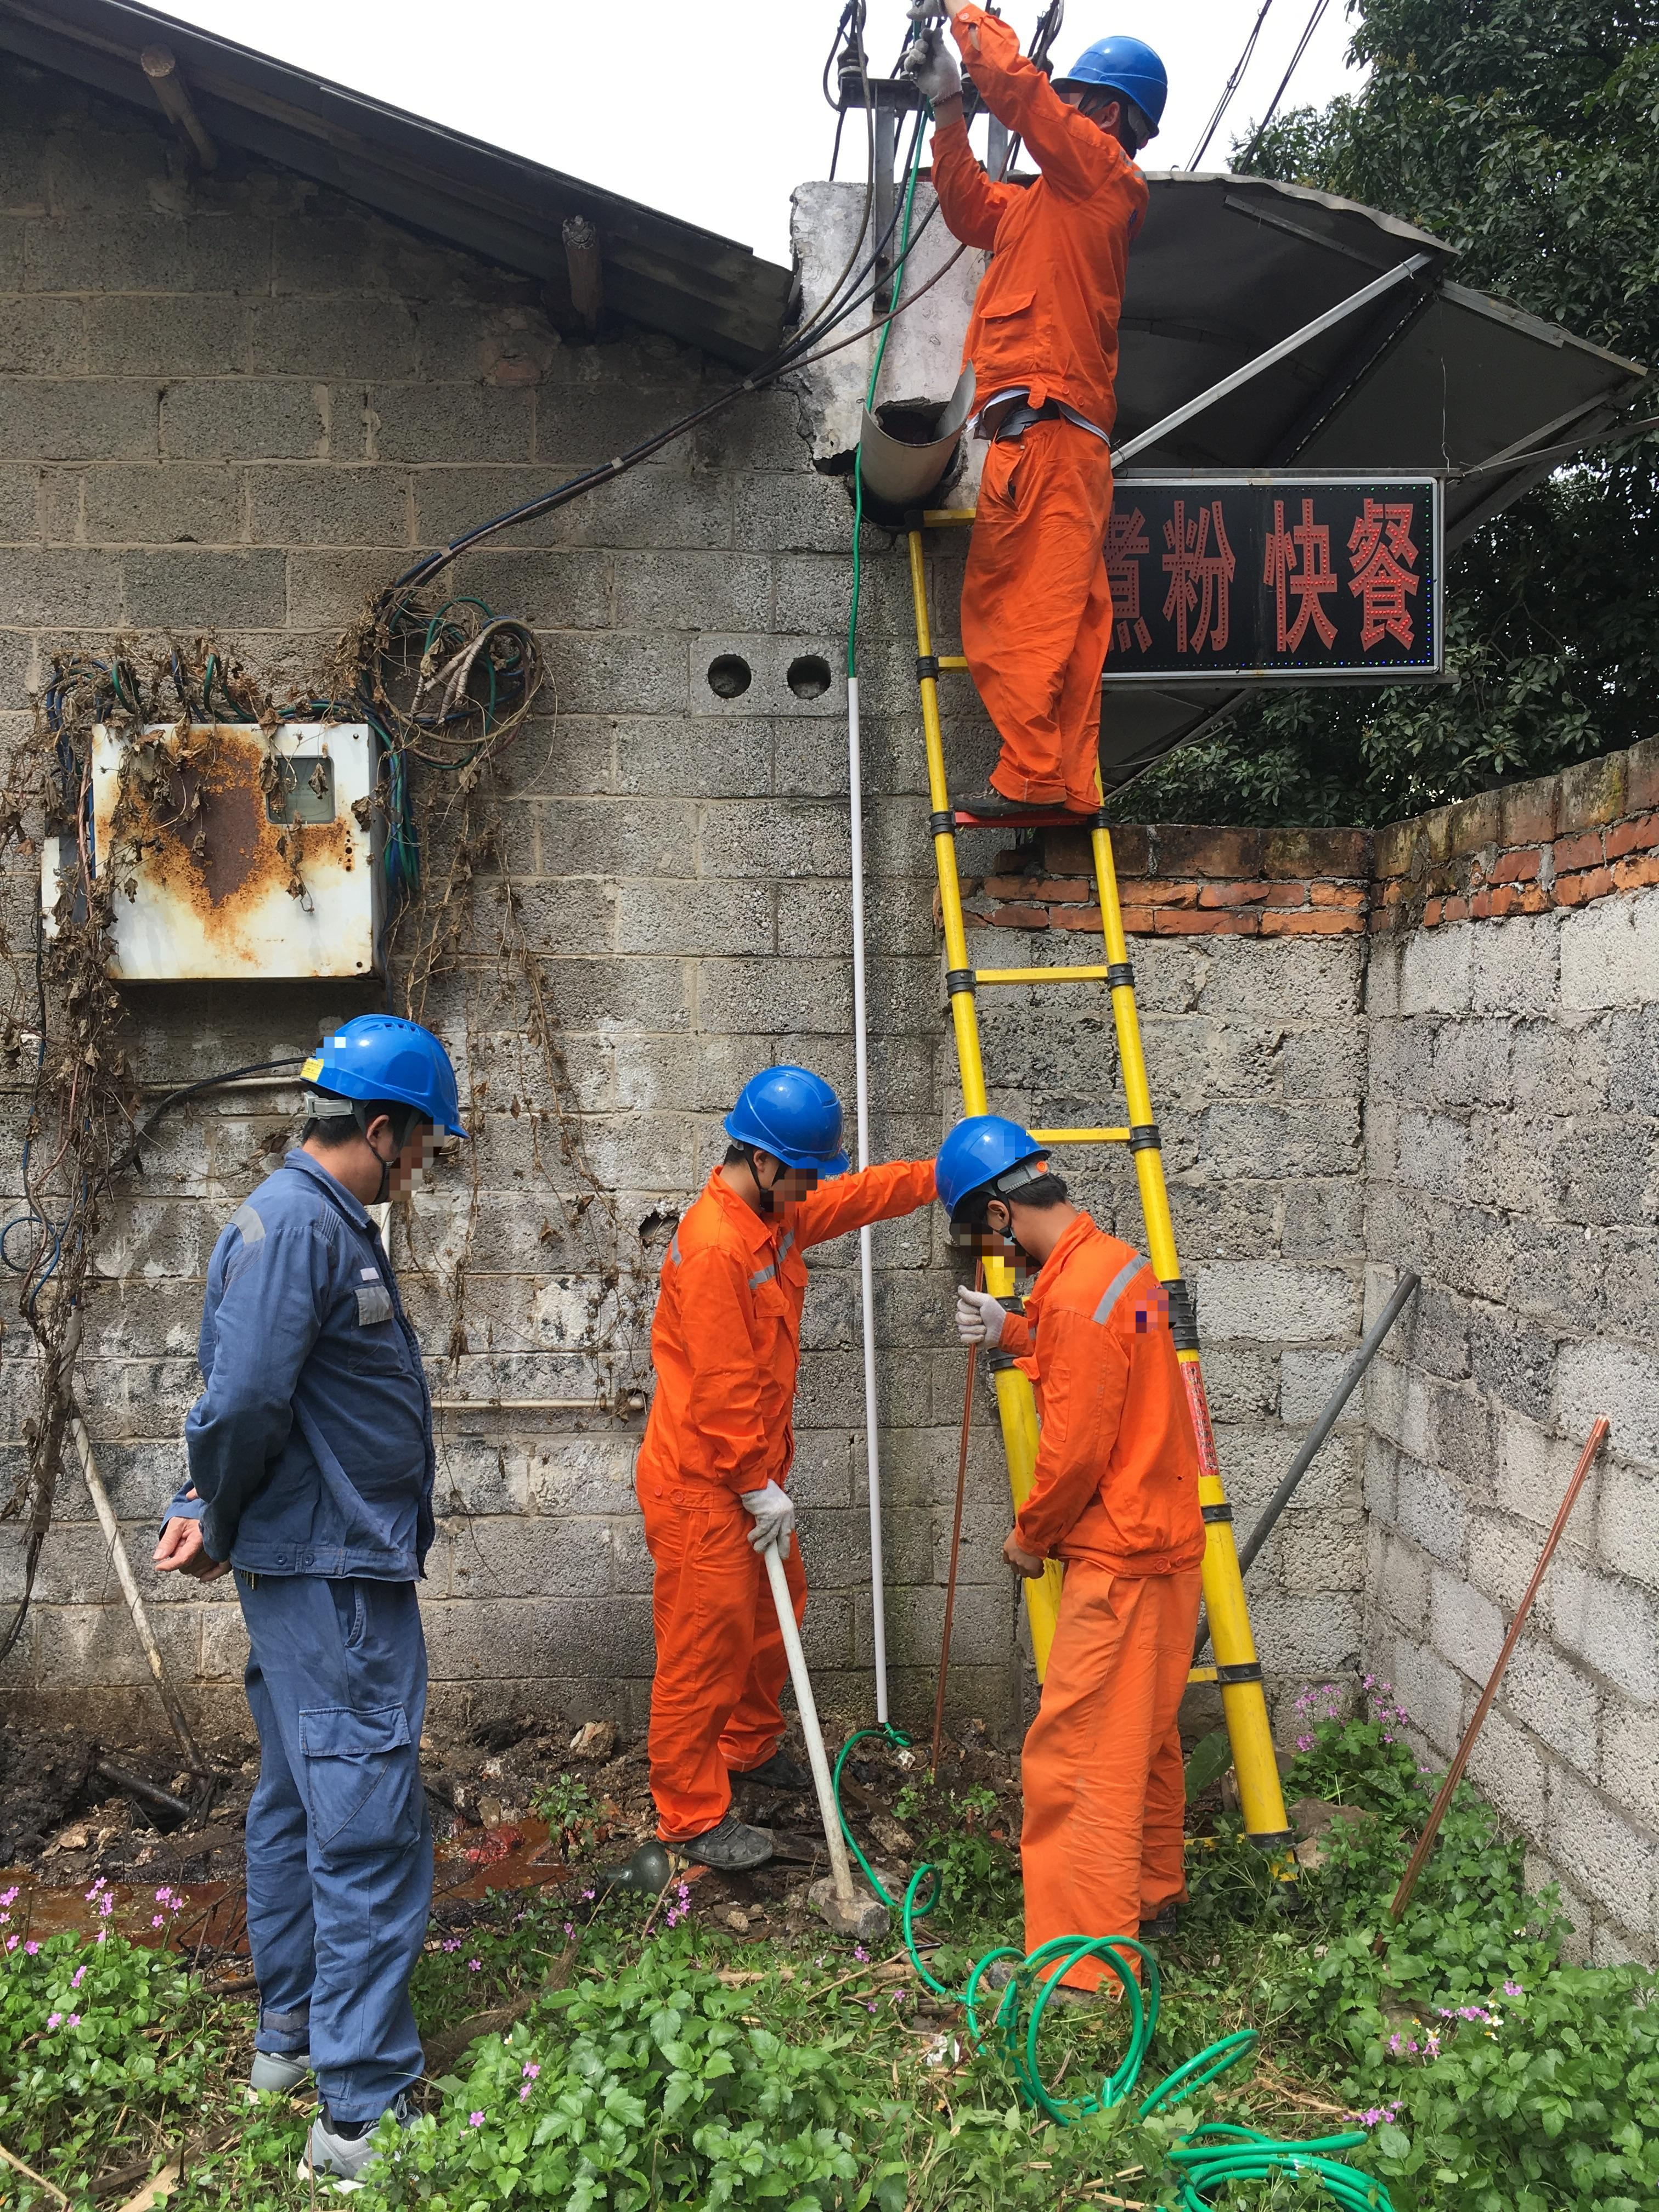halt: (307, 1014, 469, 1197), (934, 1115, 1066, 1263), (721, 1066, 850, 1200), (1054, 38, 1173, 148)
inear: (350, 1104, 420, 1186), (971, 1181, 1033, 1261), (744, 1144, 789, 1204)
outear: (1075, 85, 1129, 132)
